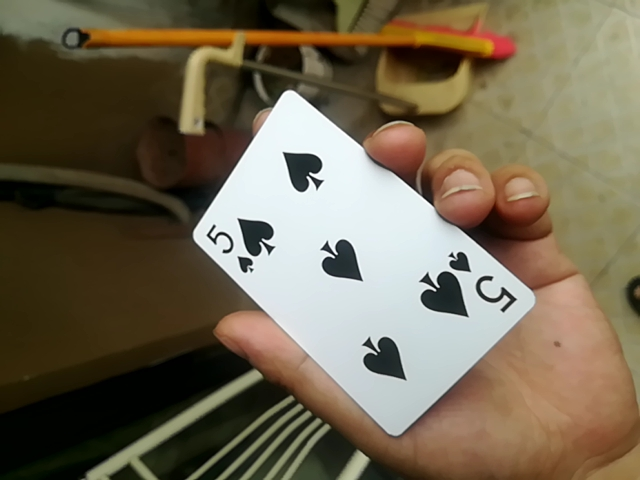ht 5: (178, 92, 532, 439)
